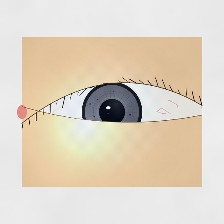pinguecula_lesion: (25, 100, 73, 138)
